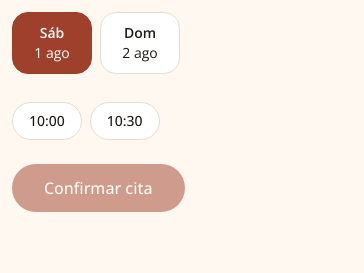
Scenario: ReservaCita › si el hueco se ocupa (409) avisa y refresca los huecos
This screenshot has width=364, height=273.
Click the button "10:00".
click(47, 121)  # box left=12, top=102, right=82, bottom=140
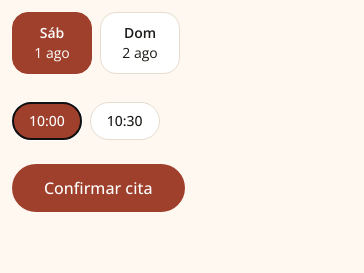
Click the button "Confirmar cita".
click(98, 188)  # box left=12, top=164, right=184, bottom=212
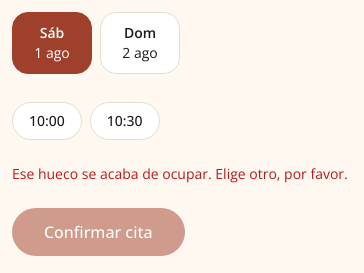
Expected: the text "Ese hueco se acaba de ocupar. Elige otro, por favor." is shown, left=12, top=164, right=348, bottom=183
